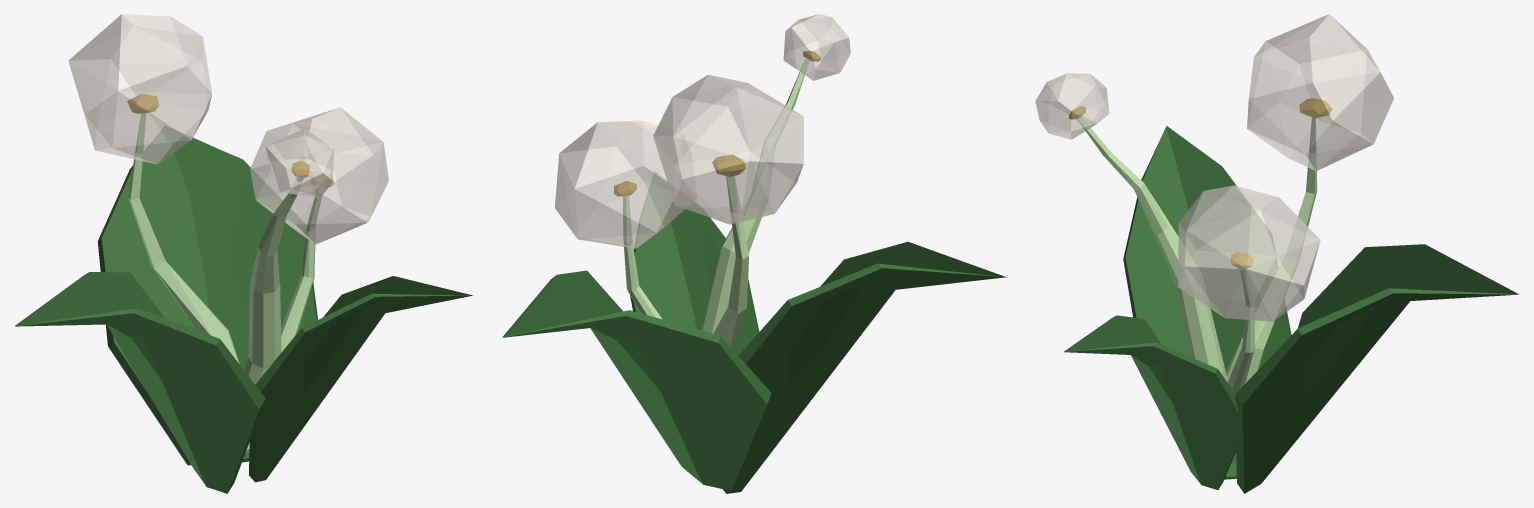
The model's file is low_poly_dandelion_v1.fbx.
3 renders of one model, left to right at view 1: azimuth 30°, elevation 25°; view 2: azimuth 150°, elevation 25°; view 3: azimuth 270°, elevation 25°, orthographic.
Parts seen in each view (by area): view 1: Leaves 1, Leaves 2, Puff, Leaves 3, Puff.001, Stem.002, Stem, Puff.002, Stem.001; view 2: Leaves 1, Leaves 2, Puff, Puff.001, Leaves 3, Stem.002, Puff.002, Stem, Stem.001, Flower center; view 3: Leaves 1, Leaves 2, Puff, Puff.001, Leaves 3, Stem.002, Puff.002, Stem, Stem.001.
Part boxes in pixels (<box>): Leaves 1: <box>97,126,317,465</box>; Leaves 2: <box>15,272,265,493</box>; Puff: <box>68,14,211,164</box>; Leaves 3: <box>249,276,472,482</box>; Puff.001: <box>250,107,388,244</box>; Stem.002: <box>244,177,303,384</box>; Stem: <box>128,113,249,453</box>; Puff.002: <box>265,128,333,197</box>; Stem.001: <box>281,196,321,352</box>; Leaves 1: <box>502,270,771,490</box>; Leaves 2: <box>723,241,1006,493</box>; Puff: <box>653,74,803,224</box>; Puff.001: <box>555,120,696,248</box>; Leaves 3: <box>630,171,759,355</box>; Stem.002: <box>702,58,809,333</box>; Puff.002: <box>783,14,850,80</box>; Stem: <box>713,176,748,348</box>; Stem.001: <box>623,196,662,319</box>; Flower center: <box>712,155,745,176</box>; Leaves 1: <box>1235,244,1518,493</box>; Leaves 2: <box>1123,126,1291,479</box>; Puff: <box>1247,14,1393,170</box>; Puff.001: <box>1178,185,1320,321</box>; Leaves 3: <box>1064,315,1239,489</box>; Stem.002: <box>1077,117,1227,382</box>; Puff.002: <box>1035,73,1109,139</box>; Stem: <box>1226,117,1317,383</box>; Stem.001: <box>1227,269,1254,464</box>.
Bounding box in the file's own units: 386 × 405 × 400.
